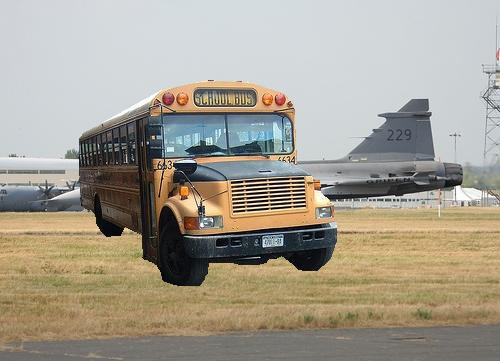tampered: (79, 81, 337, 286)
